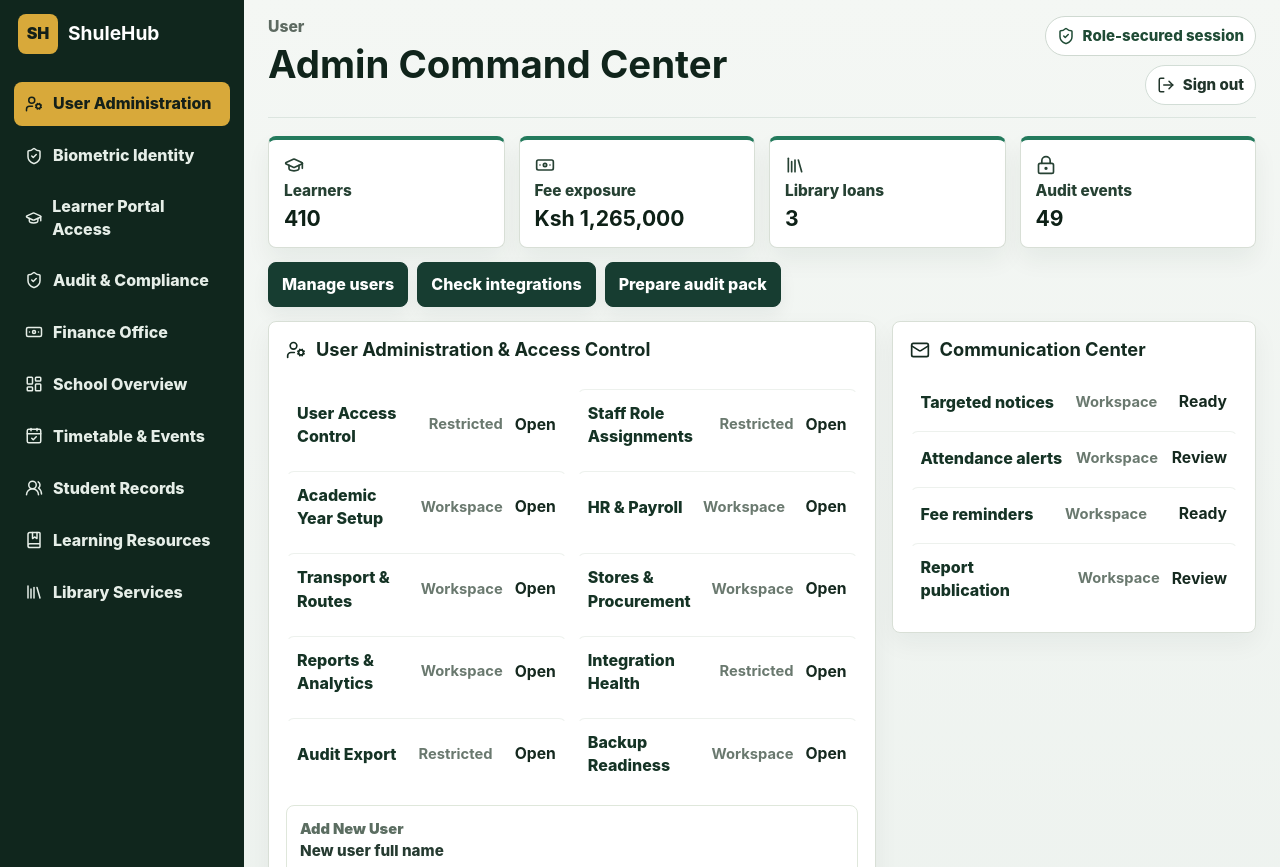
Test case: App › audit export workflow uses audit-specific clickable steps and preparation fields
This screenshot has width=1280, height=867.
Click the button "Prepare audit pack" at (693, 284), box [605,262,781,307]
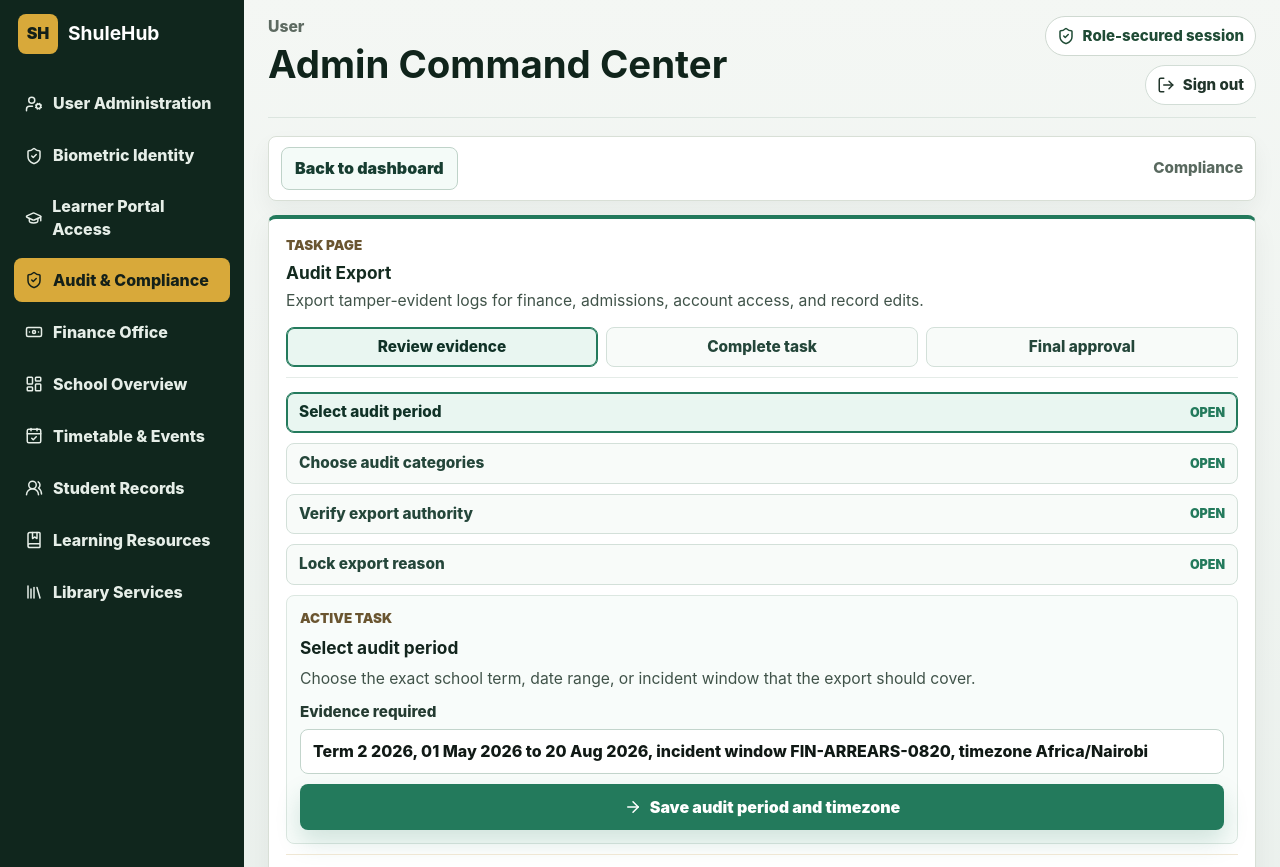
Check: the button "Select audit period" is shown, box [286,392,1238,433]
Check: the button "Verify export authority" is shown
Click the button "Verify export authority" at (386, 513), box [286,494,1238,534]
(page scrolled)
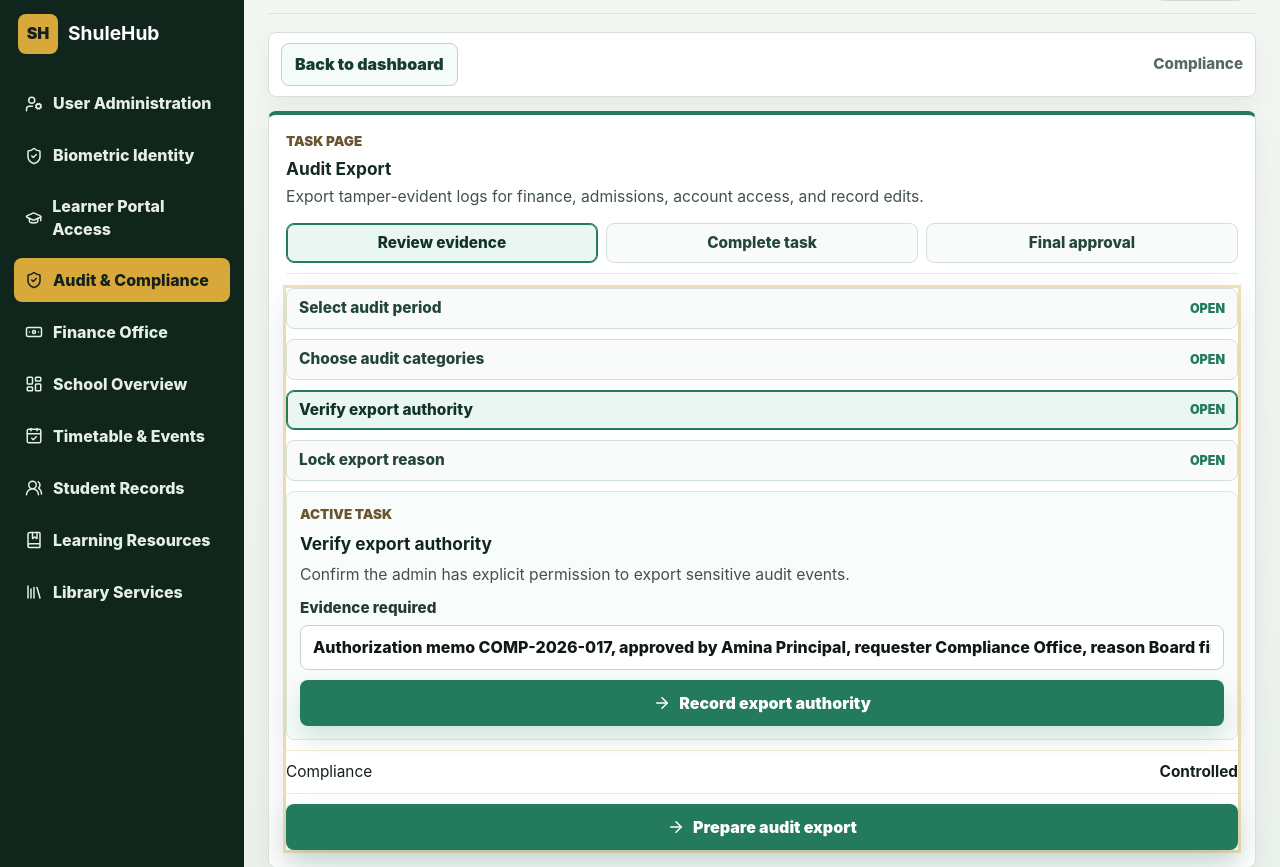
Check: the heading "Verify export authority" is shown, box [300,532,492,554]
Check: the text "Confirm the admin has explicit permission to export sensitive audit events." is shown, box [300,565,850,584]
Click the button "Prepare audit export" at (762, 828), box [286,804,1238,850]
(page scrolled)
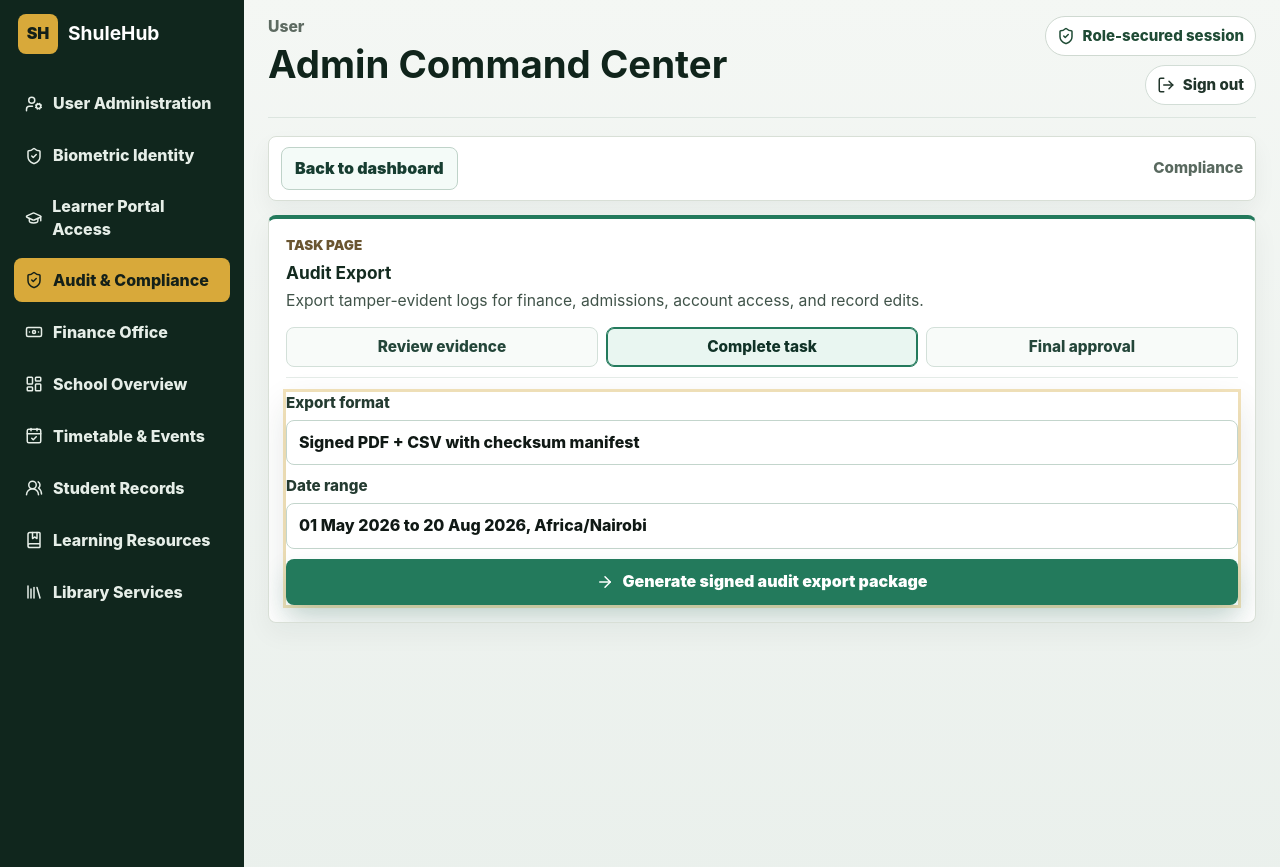
Check: the text "Export format" is shown, box [286,393,390,412]
Check: the text "Date range" is shown, box [286,476,368,495]
Click the button "Generate signed audit export package" at (762, 582), box [286,558,1238,604]
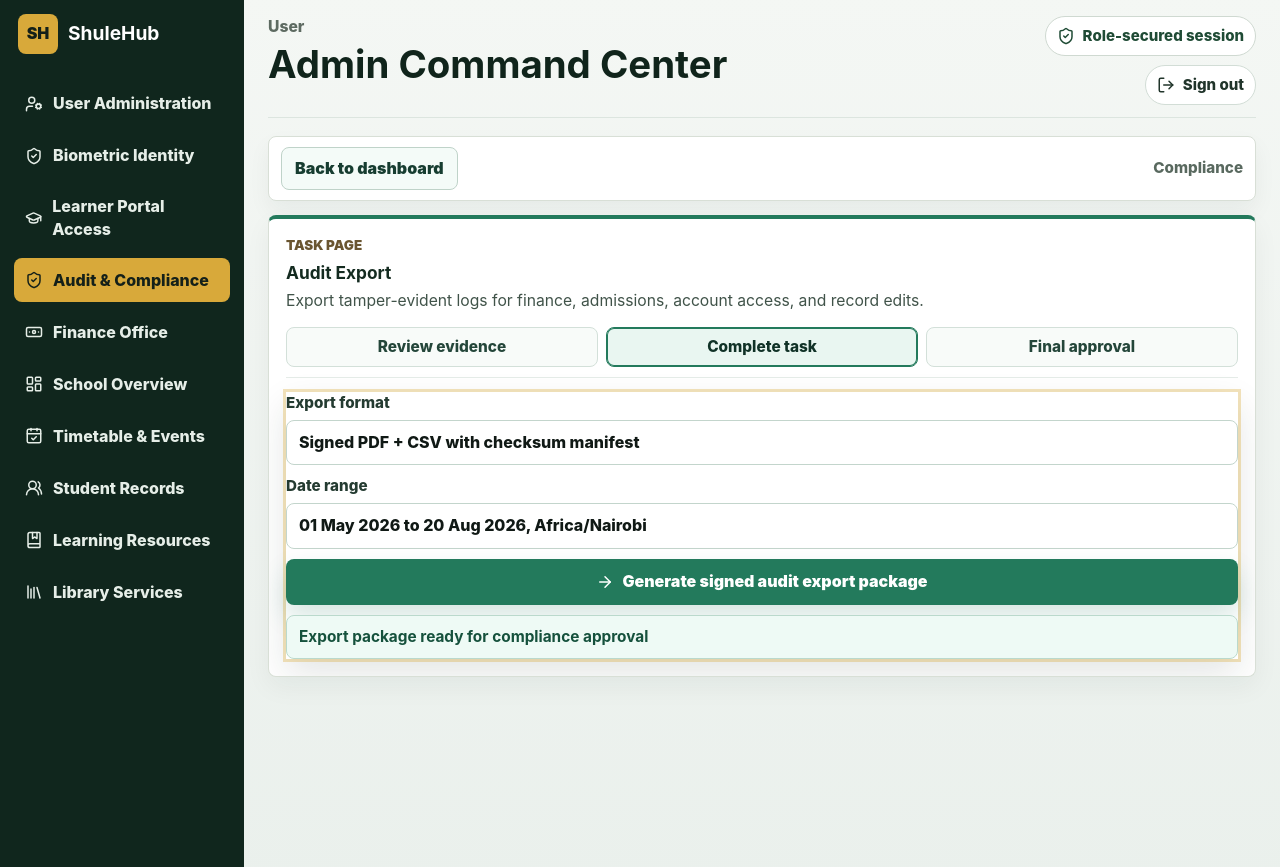
Check: the text "Export package ready for compliance approval" is shown, box [286,614,1238,659]
